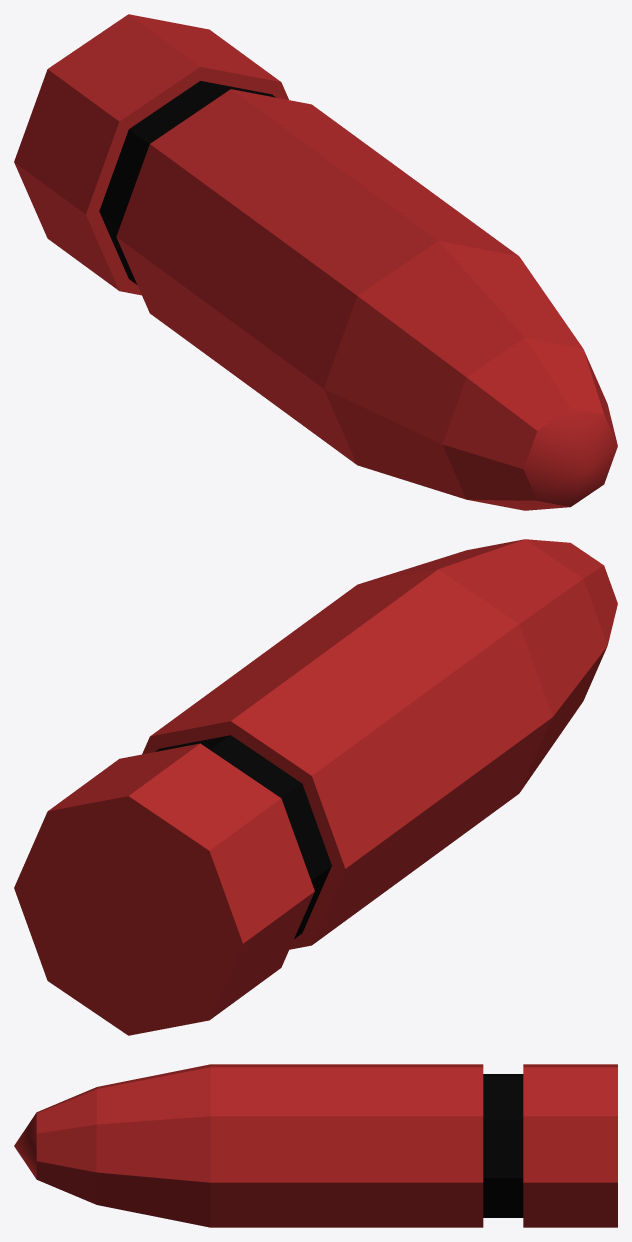
File: Bullet.fbx
3 views of the same model, one above another, from view 1: azimuth 30°, elevation 25°; view 2: azimuth 150°, elevation 25°; view 3: azimuth 270°, elevation 25° (orthographic). The views are drawn at different scales.
Parts seen in each view (by area): view 1: Bullet; view 2: Bullet; view 3: Bullet.
Part boxes in pixels (left/top/right/bottom): Bullet: left=14, top=14, right=617, bottom=510; Bullet: left=14, top=539, right=617, bottom=1035; Bullet: left=14, top=1064, right=617, bottom=1227.
Bounding box in the file's own units: 32.9 × 32.9 × 114.
